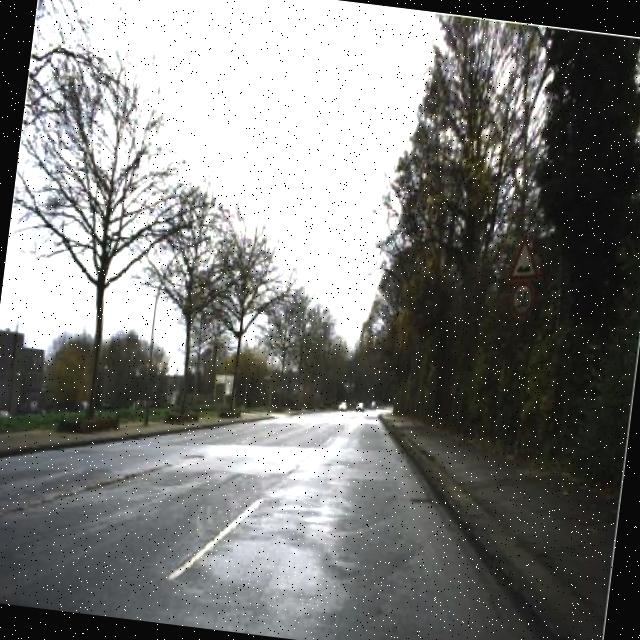Ograniczenie predkosci do 50: (506, 278, 538, 322)
